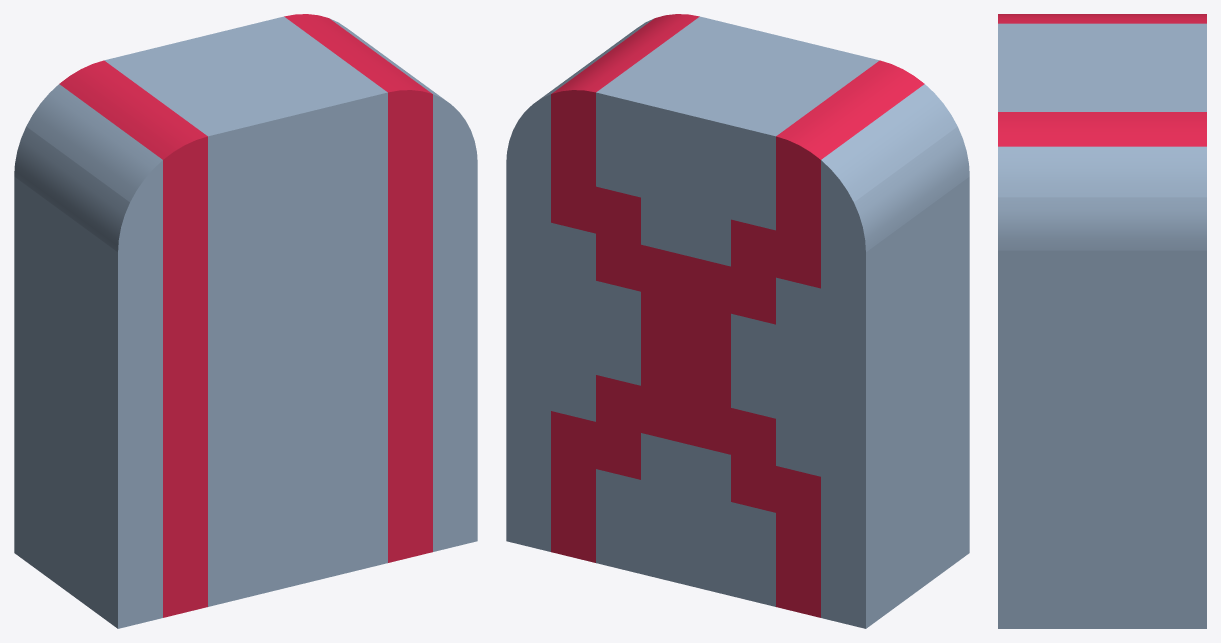
File: TechnoCultistBase.glb
3 views of the same model, side by side, from view 1: azimuth 30°, elevation 25°; view 2: azimuth 150°, elevation 25°; view 3: azimuth 270°, elevation 25° (orthographic).
Parts seen in each view (by area): view 1: generated(Clone); view 2: generated(Clone); view 3: generated(Clone).
Part boxes in pixels (bbox=[...]): generated(Clone): bbox=[14, 14, 477, 628]; generated(Clone): bbox=[506, 14, 969, 628]; generated(Clone): bbox=[998, 14, 1206, 628].
Size of the model in its own units: 8 by 10 by 4.
